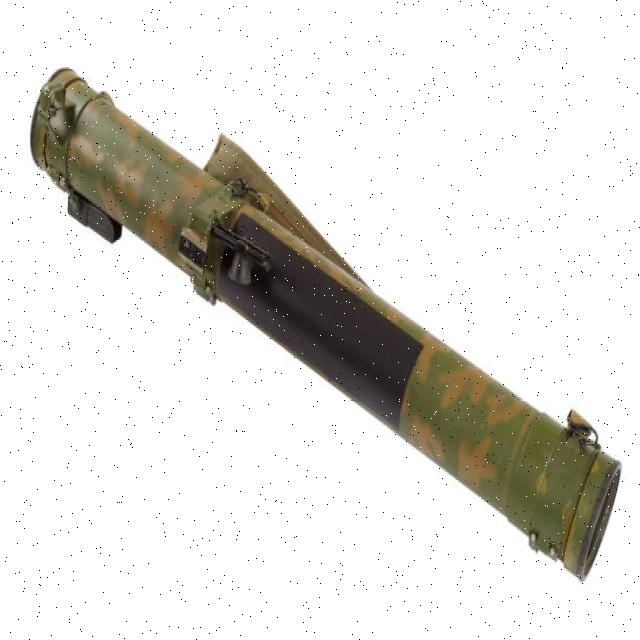bazooka: (25, 60, 628, 593)
